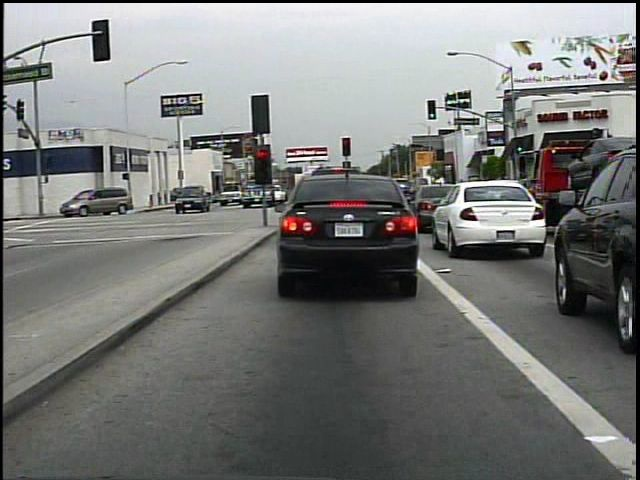person: (193, 180, 214, 206)
